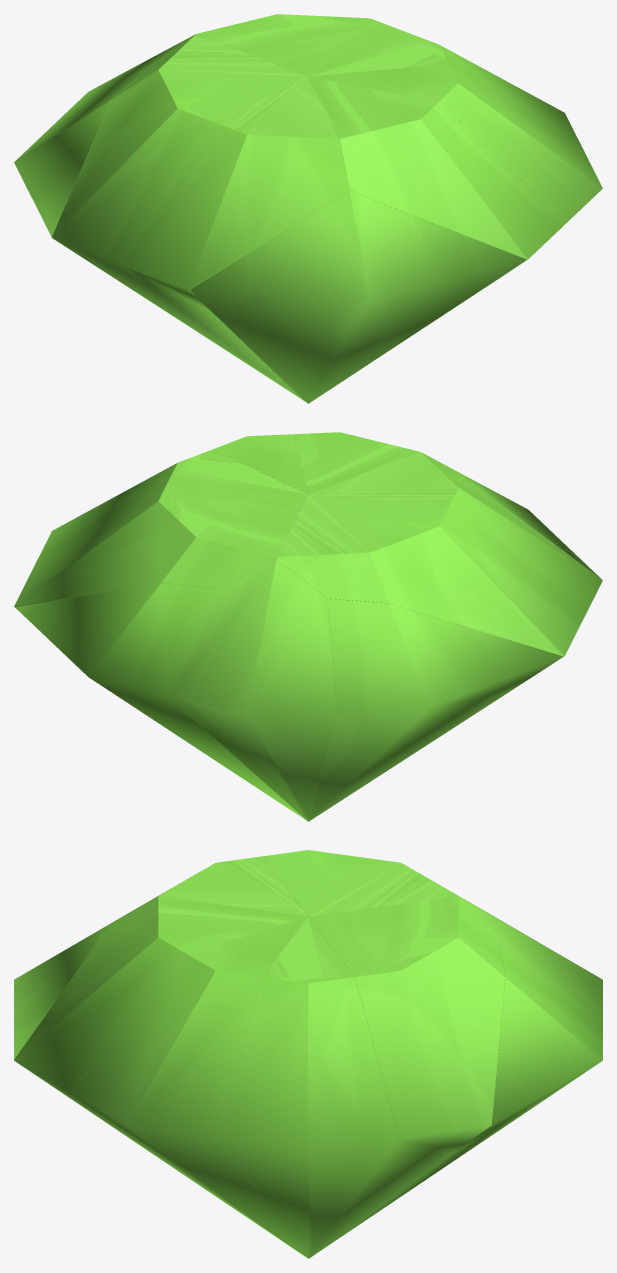
Rendered from DiamondBreak.fbx.
The picture shows the model from 3 angles, top to bottom: view 1: azimuth 30°, elevation 25°; view 2: azimuth 150°, elevation 25°; view 3: azimuth 270°, elevation 25°; orthographic projection. The views are drawn at different scales.
Parts seen in each view (by area): view 1: Diamond_cell.002, Diamond_cell.009, Diamond_cell.006, Diamond_cell.001, Diamond_cell.007, Diamond_cell.008, Diamond_cell.004, Diamond_cell.005, Diamond_cell; view 2: Diamond_cell, Diamond_cell.006, Diamond_cell.004, Diamond_cell.008, Diamond_cell.003, Diamond_cell.009, Diamond_cell.005, Diamond_cell.001, Diamond_cell.007, Diamond_cell.002; view 3: Diamond_cell.005, Diamond_cell.008, Diamond_cell.007, Diamond_cell.001, Diamond_cell.003, Diamond_cell.006, Diamond_cell.009, Diamond_cell, Diamond_cell.002.
Part boxes in pixels (left/top/right/bottom): Diamond_cell.002: left=190, top=191, right=526, bottom=403; Diamond_cell.009: left=120, top=76, right=349, bottom=395; Diamond_cell.006: left=51, top=34, right=307, bottom=394; Diamond_cell.001: left=309, top=76, right=565, bottom=280; Diamond_cell.007: left=309, top=64, right=602, bottom=223; Diamond_cell.008: left=196, top=14, right=404, bottom=76; Diamond_cell.004: left=14, top=73, right=306, bottom=402; Diamond_cell.005: left=309, top=31, right=583, bottom=150; Diamond_cell: left=51, top=35, right=193, bottom=126; Diamond_cell: left=168, top=559, right=337, bottom=821; Diamond_cell.006: left=276, top=494, right=583, bottom=675; Diamond_cell.004: left=308, top=598, right=562, bottom=821; Diamond_cell.008: left=14, top=482, right=307, bottom=607; Diamond_cell.003: left=15, top=583, right=306, bottom=820; Diamond_cell.009: left=309, top=452, right=602, bottom=617; Diamond_cell.005: left=33, top=449, right=307, bottom=568; Diamond_cell.001: left=293, top=432, right=419, bottom=494; Diamond_cell.007: left=212, top=434, right=307, bottom=493; Diamond_cell.002: left=457, top=471, right=600, bottom=578; Diamond_cell.005: left=217, top=917, right=399, bottom=1256; Diamond_cell.008: left=309, top=896, right=505, bottom=1251; Diamond_cell.007: left=70, top=917, right=307, bottom=1256; Diamond_cell.001: left=14, top=896, right=307, bottom=1244; Diamond_cell.003: left=307, top=946, right=602, bottom=1258; Diamond_cell.006: left=262, top=850, right=458, bottom=916; Diamond_cell.009: left=116, top=856, right=307, bottom=920; Diamond_cell: left=461, top=898, right=602, bottom=1019; Diamond_cell.002: left=14, top=920, right=307, bottom=1258.
Size of the model in its own units: 1014 by 618 by 964.
